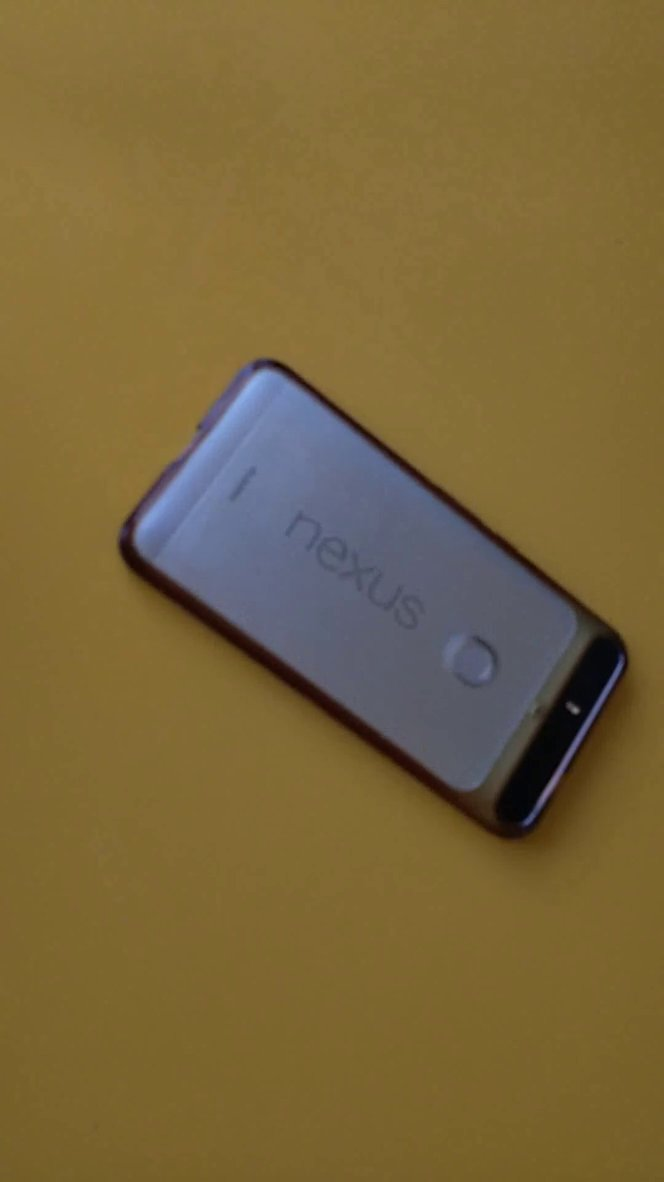phone: (90, 346, 642, 859)
